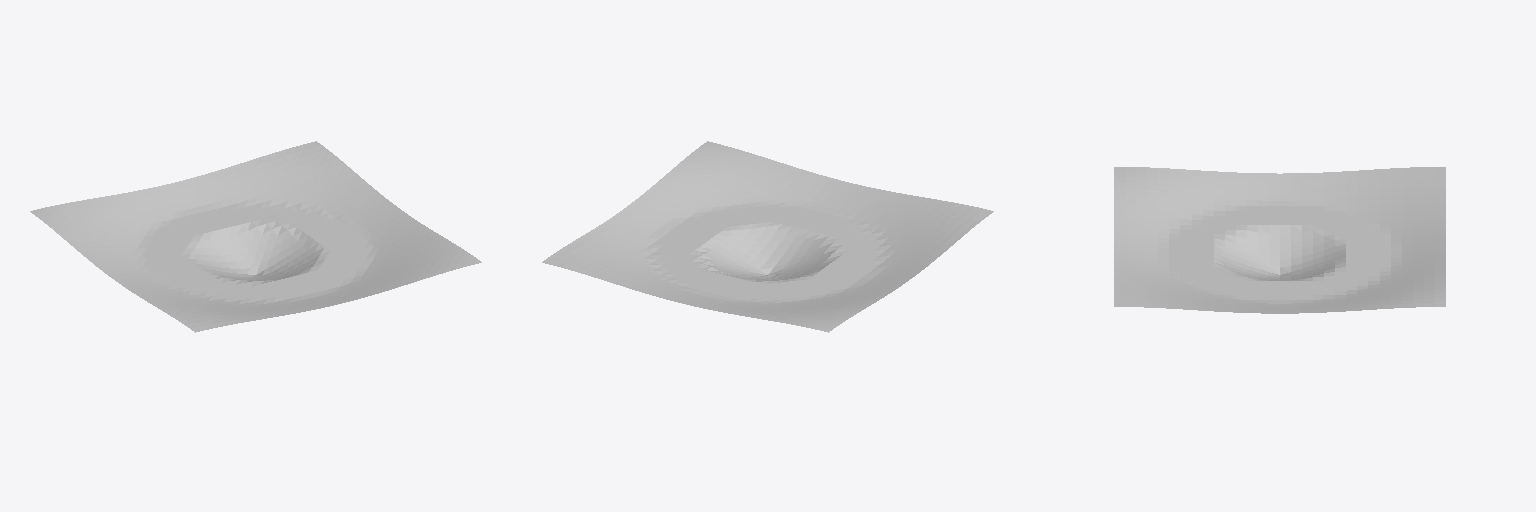
The model's file is CaveFloor.obj.
3 renders of one model, left to right at view 1: azimuth 30°, elevation 25°; view 2: azimuth 150°, elevation 25°; view 3: azimuth 270°, elevation 25°, orthographic.
Visible parts, largest first — view 1: pPlane3; view 2: pPlane3; view 3: pPlane3.
Part boxes in pixels (x1,y1,x2,y2): pPlane3: (30,141,481,332); pPlane3: (542,141,993,332); pPlane3: (1114,167,1445,313).
Bounding box in the file's own units: 2510 × 318 × 2510.